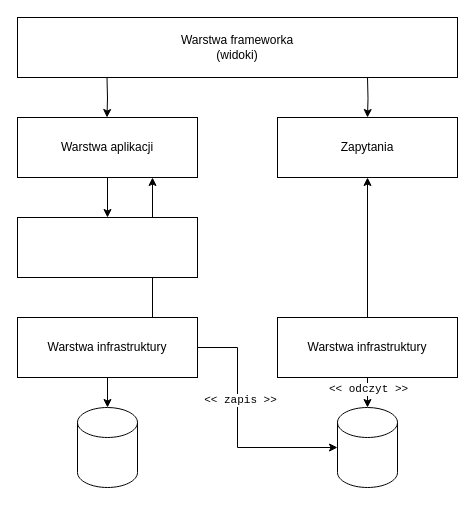
The diagram is 475 pixels wide and 505 high, and some of its shapes have lost their labels. The box of each missing label's shape, as (x1, y1, x2, y2) in pixels:
Baza do odczytu: (336, 406, 398, 488)
Baza do zapisu: (76, 406, 138, 488)
Warstwa domeny: (16, 216, 198, 278)
